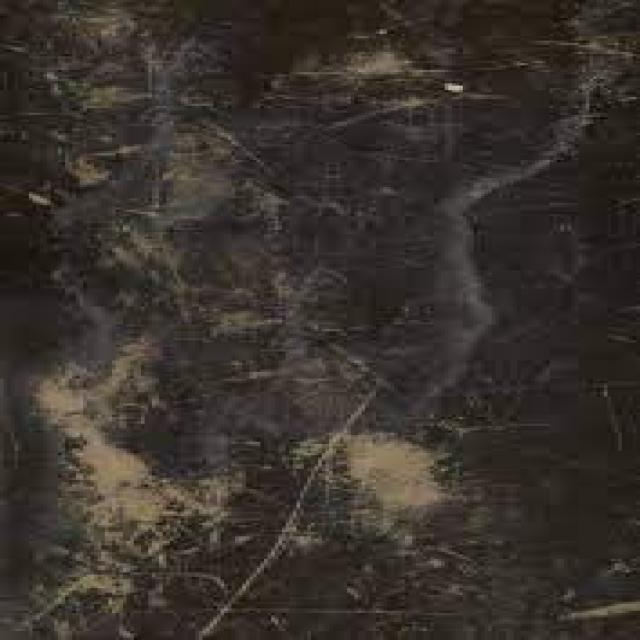Rotten surface: (42, 329, 250, 586), (63, 24, 440, 128), (296, 400, 524, 561)
